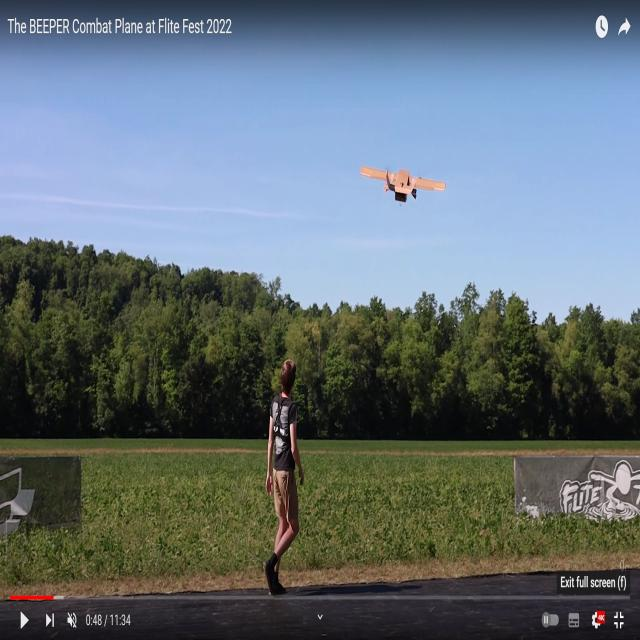iha: (393, 167, 414, 204)
